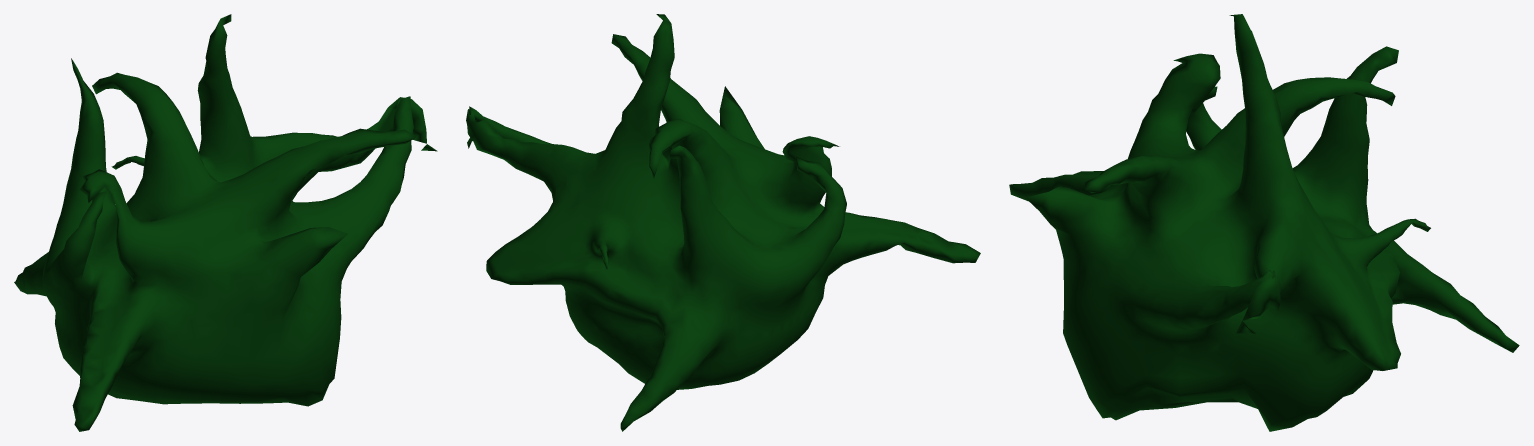
The model's file is jump_cthulhu_0022.obj.
The picture shows the model from 3 angles, left to right: view 1: azimuth 30°, elevation 25°; view 2: azimuth 150°, elevation 25°; view 3: azimuth 270°, elevation 25°; orthographic projection. The views are drawn at different scales.
Parts seen in each view (by area): view 1: Cube; view 2: Cube; view 3: Cube.
Part boxes in pixels (<box>): Cube: <box>14,14,437,431</box>; Cube: <box>466,14,980,431</box>; Cube: <box>1009,14,1519,431</box>.
Size of the model in its own units: 1.23 by 0.9303 by 1.07.
